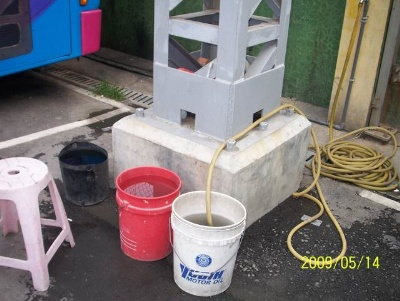bucket: (171, 190, 245, 296), (114, 165, 181, 262), (57, 140, 109, 204)
